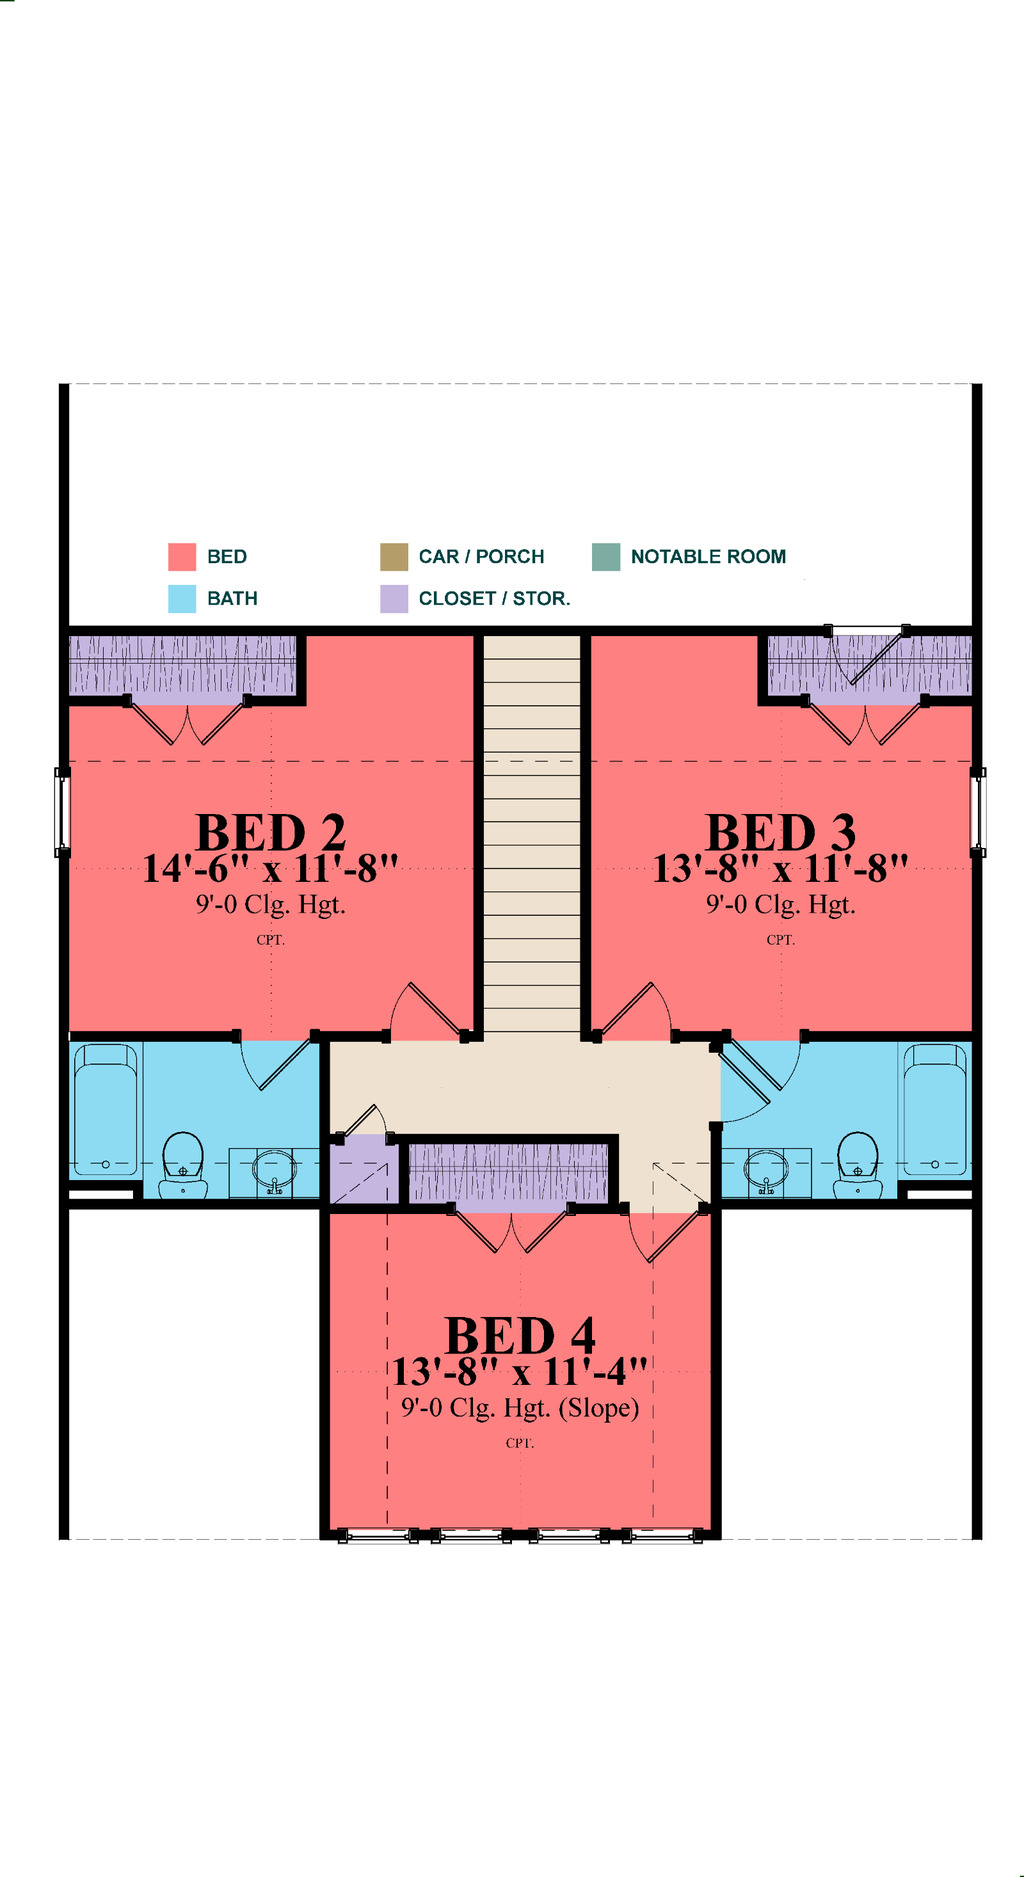door: (802, 684, 922, 755), (122, 696, 259, 758), (458, 1199, 557, 1263), (590, 972, 684, 1040), (235, 1025, 311, 1099), (383, 987, 467, 1049), (731, 1025, 808, 1090), (619, 1206, 696, 1272), (311, 1095, 409, 1137), (716, 1053, 763, 1131)
large_sink: (143, 1116, 228, 1206), (818, 1113, 893, 1205)
small_sink: (240, 1128, 317, 1210), (731, 1140, 796, 1199)
stairs: (467, 621, 596, 1060)
tub: (875, 1025, 966, 1225)
window: (343, 1513, 696, 1543), (40, 769, 93, 866), (958, 758, 992, 857)
